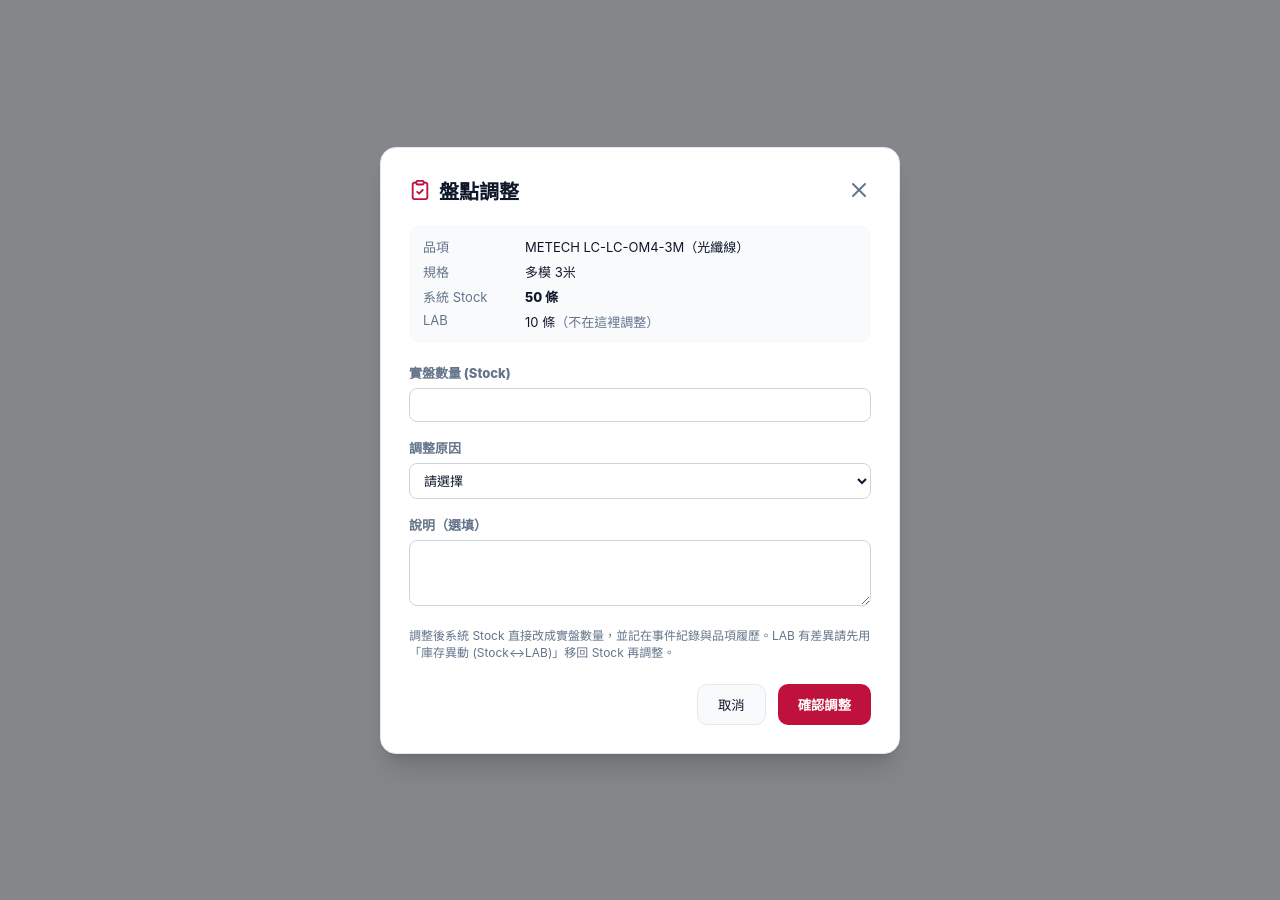
Test case: 調整視窗 › 擋下不完整的輸入：實盤「47」原因「」
The image size is (1280, 900).
Type "47" into the number field labelled "實盤數量 (Stock)".
click(640, 404); type("47")  # box [409,388,871,422]
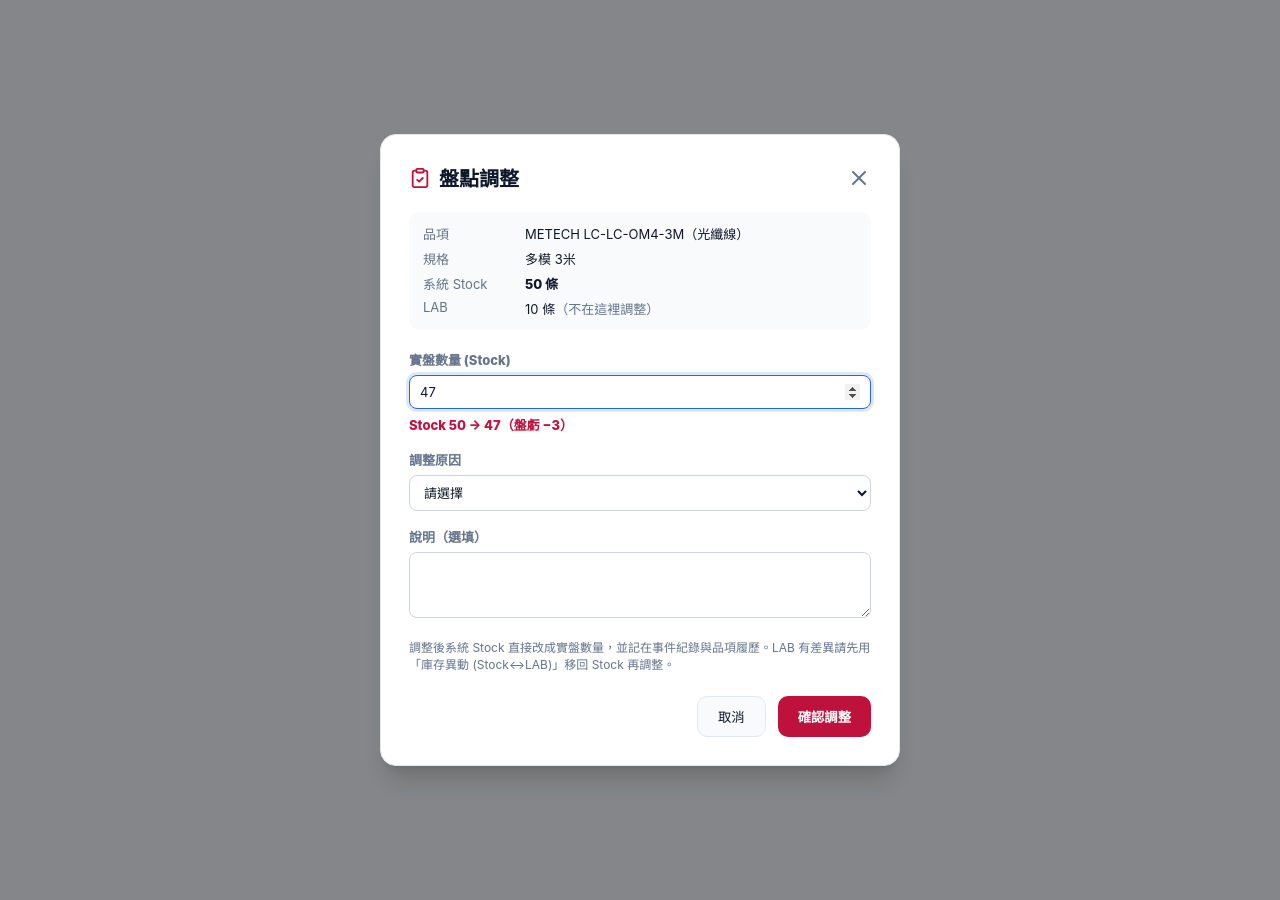
Click the button "確認調整".
click(824, 716)  # box [778,696,871,737]
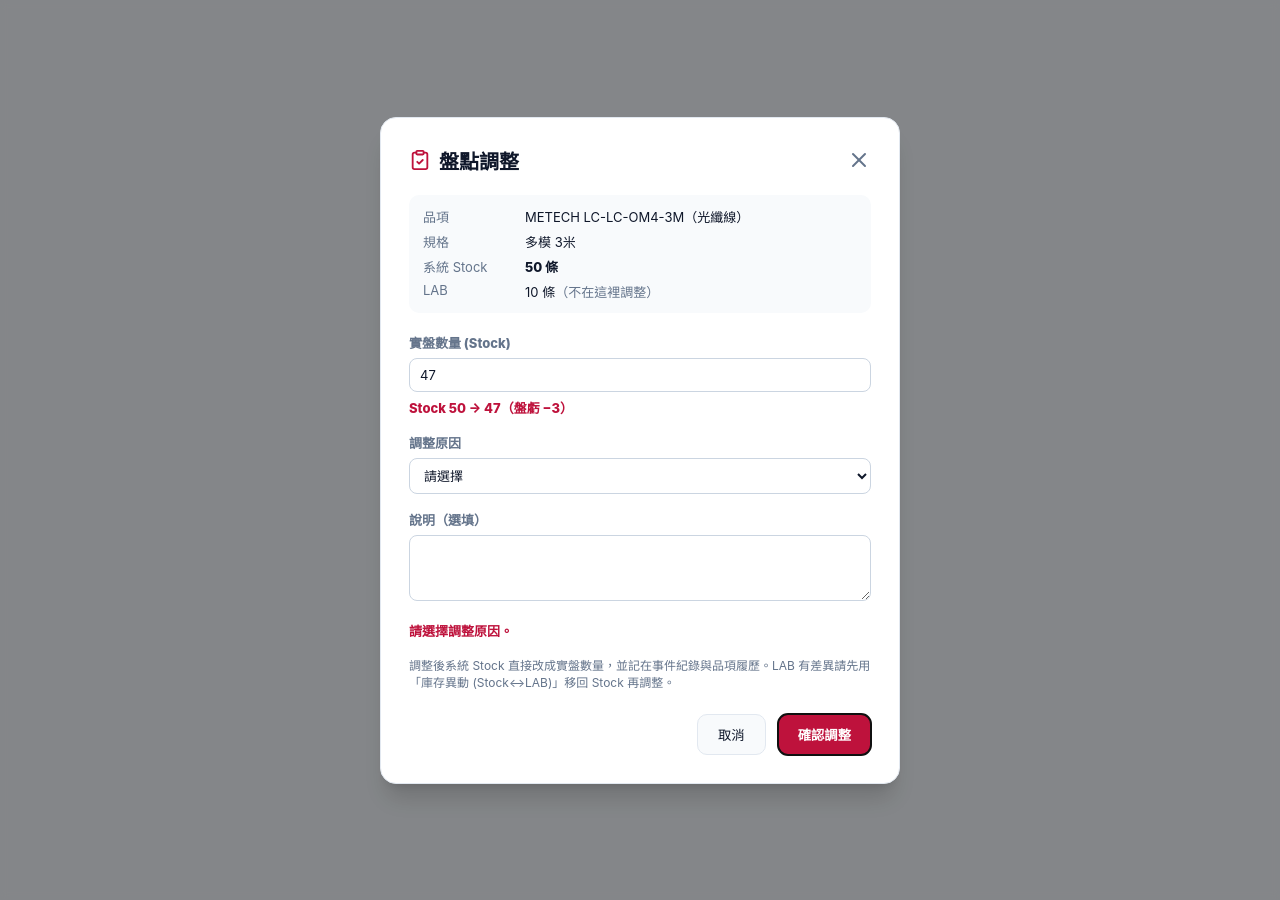
expect the message shows "請選擇調整原因": met, box [409,622,513,638]
